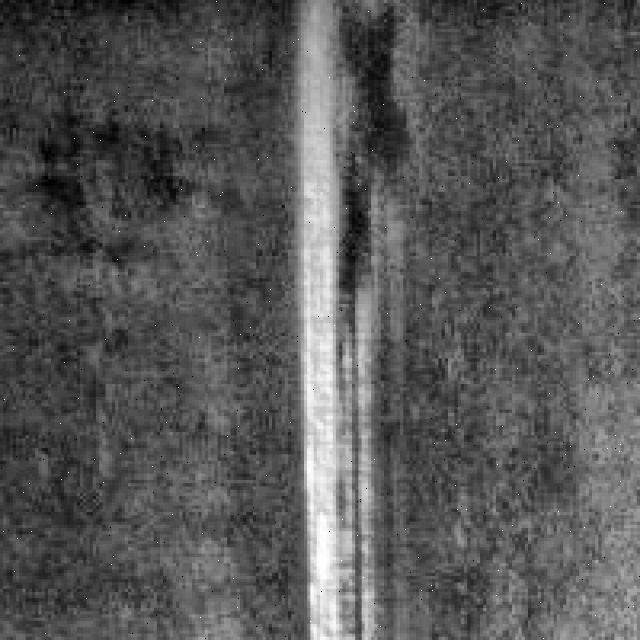Inclusion: (300, 99, 388, 634)
